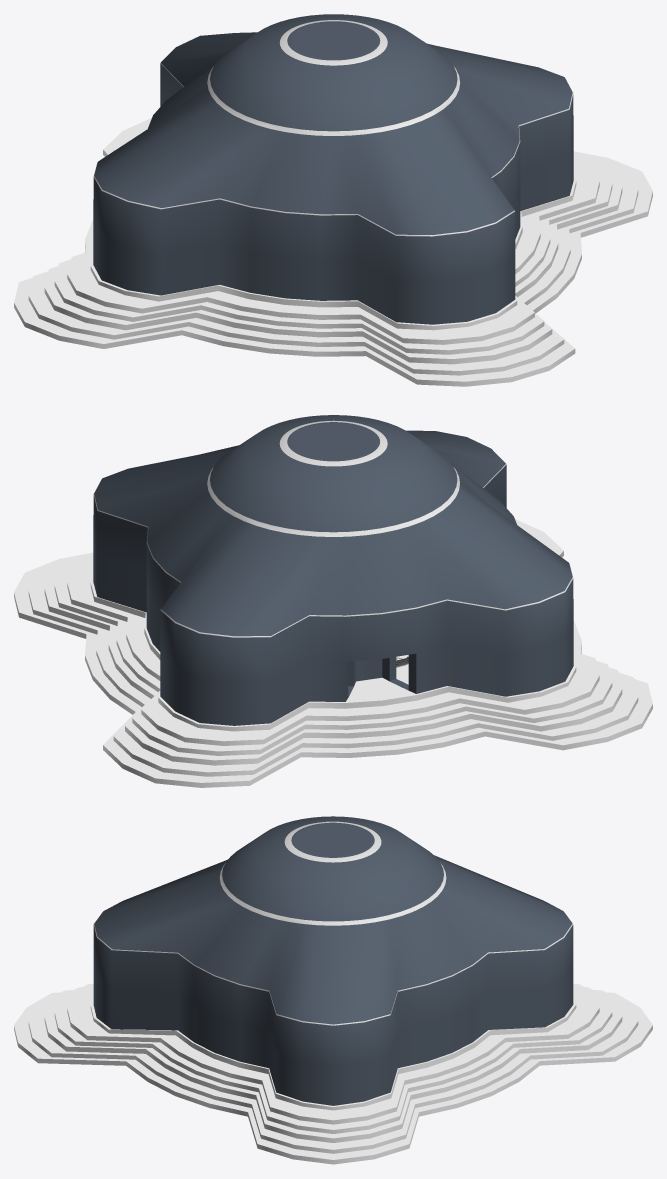
Rendered from Main_Land_stage.fbx.
3 views of the same model, one above another, from view 1: azimuth 30°, elevation 25°; view 2: azimuth 150°, elevation 25°; view 3: azimuth 270°, elevation 25° (orthographic). The views are drawn at different scales.
Visible parts, largest first — view 1: Stage_Hall, Stage_basement; view 2: Stage_Hall, Stage_basement; view 3: Stage_Hall, Stage_basement.
Boxes of the visible parts, x1,y1,x2,y2 form: Stage_Hall: (93, 14, 573, 324); Stage_basement: (14, 118, 652, 386); Stage_Hall: (93, 415, 573, 725); Stage_basement: (14, 519, 652, 787); Stage_Hall: (93, 816, 573, 1105); Stage_basement: (14, 984, 652, 1164).
Bounding box in the file's own units: 2239 × 732 × 2239.
